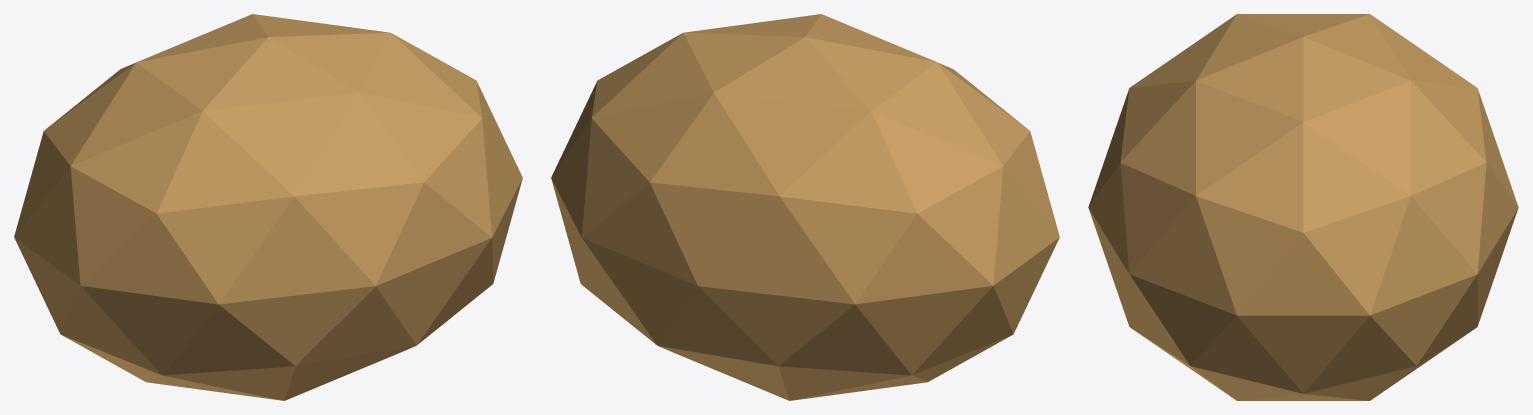
File: crumb.glb
3 renders of one model, left to right at view 1: azimuth 30°, elevation 25°; view 2: azimuth 150°, elevation 25°; view 3: azimuth 270°, elevation 25°, orthographic.
Visible parts, largest first — view 1: Carried crumb; view 2: Carried crumb; view 3: Carried crumb.
Boxes of the visible parts, x1,y1,x2,y2 form: Carried crumb: (14,14,522,400); Carried crumb: (551,14,1059,400); Carried crumb: (1088,14,1518,400).
Bounding box in the file's own units: 0.3043 × 0.224 × 0.256.
